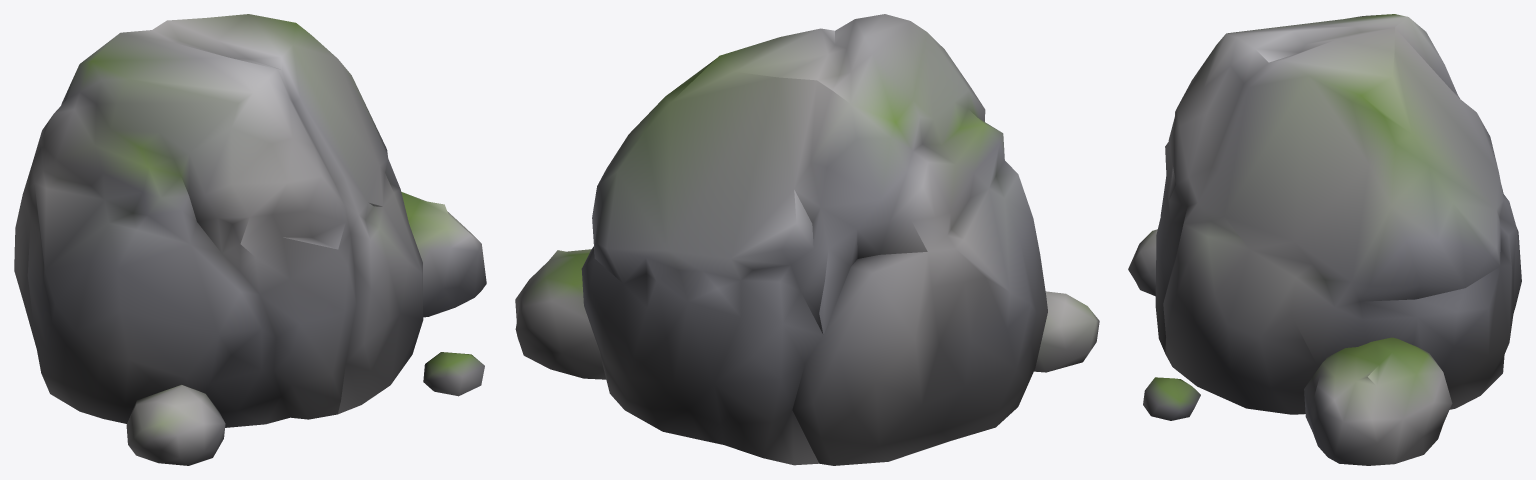
The model's file is rock-whole-v2.glb.
3 views of the same model, side by side, from view 1: azimuth 30°, elevation 25°; view 2: azimuth 150°, elevation 25°; view 3: azimuth 270°, elevation 25° (orthographic). The views are drawn at different scales.
Visible parts, largest first — view 1: 0_rock; view 2: 0_rock; view 3: 0_rock.
Boxes of the visible parts, <box> form: 0_rock: <box>14,14,486,465</box>; 0_rock: <box>515,14,1099,465</box>; 0_rock: <box>1128,14,1521,465</box>.
Size of the model in its own units: 2.21 by 1.47 by 1.73.
